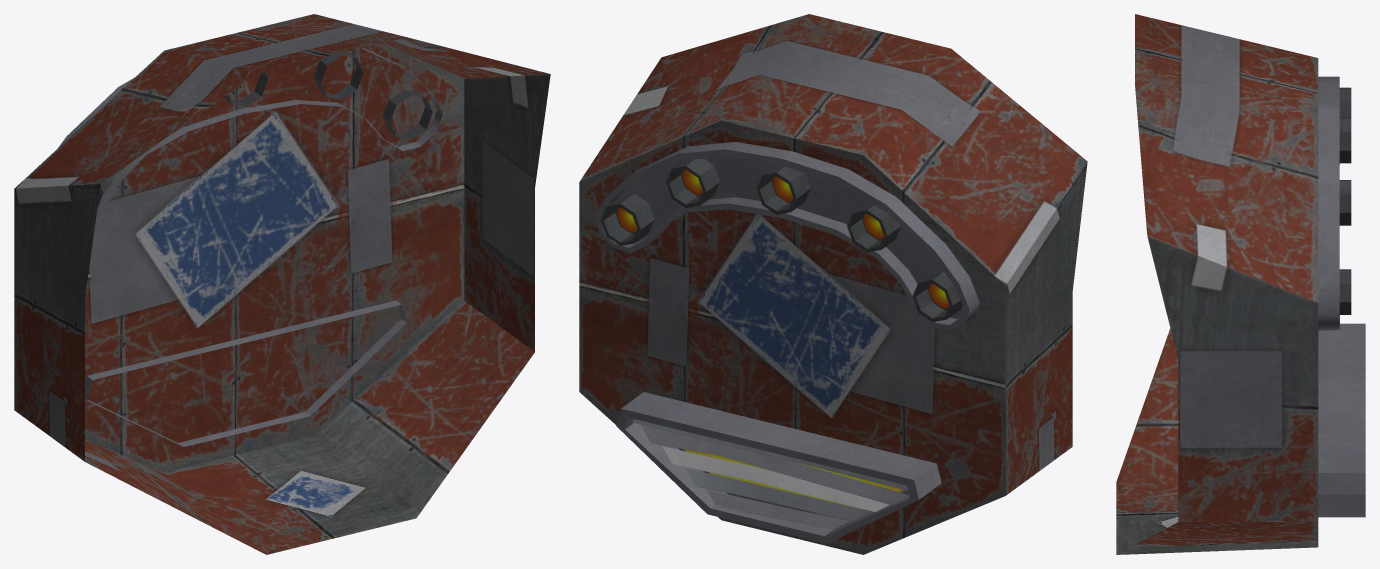
The model's file is HCP10.fbx.
The picture shows the model from 3 angles, left to right: view 1: azimuth 30°, elevation 25°; view 2: azimuth 150°, elevation 25°; view 3: azimuth 270°, elevation 25°; orthographic projection. The views are drawn at different scales.
Parts seen in each view (by area): view 1: tenD; view 2: tenD; view 3: tenD.
Part boxes in pixels (x1,y1,x2,y2): tenD: [14, 14, 550, 554]; tenD: [579, 14, 1087, 554]; tenD: [1116, 14, 1365, 554].
Bounding box in the file's own units: 5948 × 5990 × 2891.
Materials: 1 (1 with a texture image).
